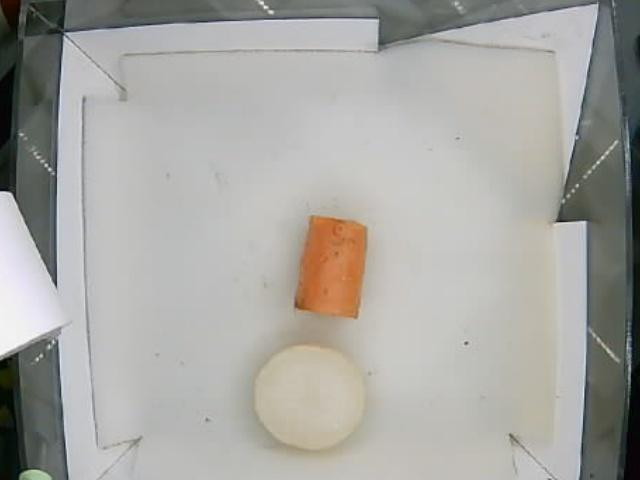Carrot: (294, 216, 370, 318)
China: (251, 344, 366, 449)
